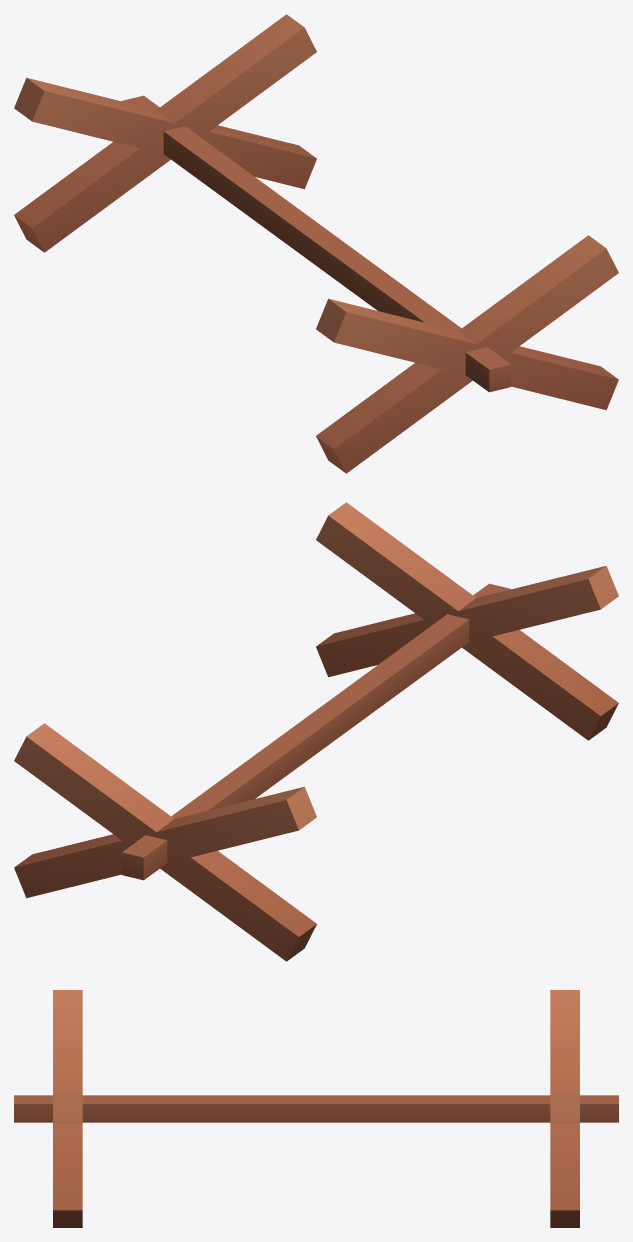
The model's file is bedroll-frame.glb.
The picture shows the model from 3 angles, top to bottom: view 1: azimuth 30°, elevation 25°; view 2: azimuth 150°, elevation 25°; view 3: azimuth 270°, elevation 25°; orthographic projection. The views are drawn at different scales.
Parts seen in each view (by area): view 1: bedroll-frame; view 2: bedroll-frame; view 3: bedroll-frame.
Boxes of the visible parts, left/top/right/bottom form: bedroll-frame: left=14, top=14, right=618, bottom=473; bedroll-frame: left=14, top=502, right=618, bottom=961; bedroll-frame: left=14, top=990, right=618, bottom=1227.
Size of the model in its own units: 0.2722 by 0.1477 by 0.6076.
